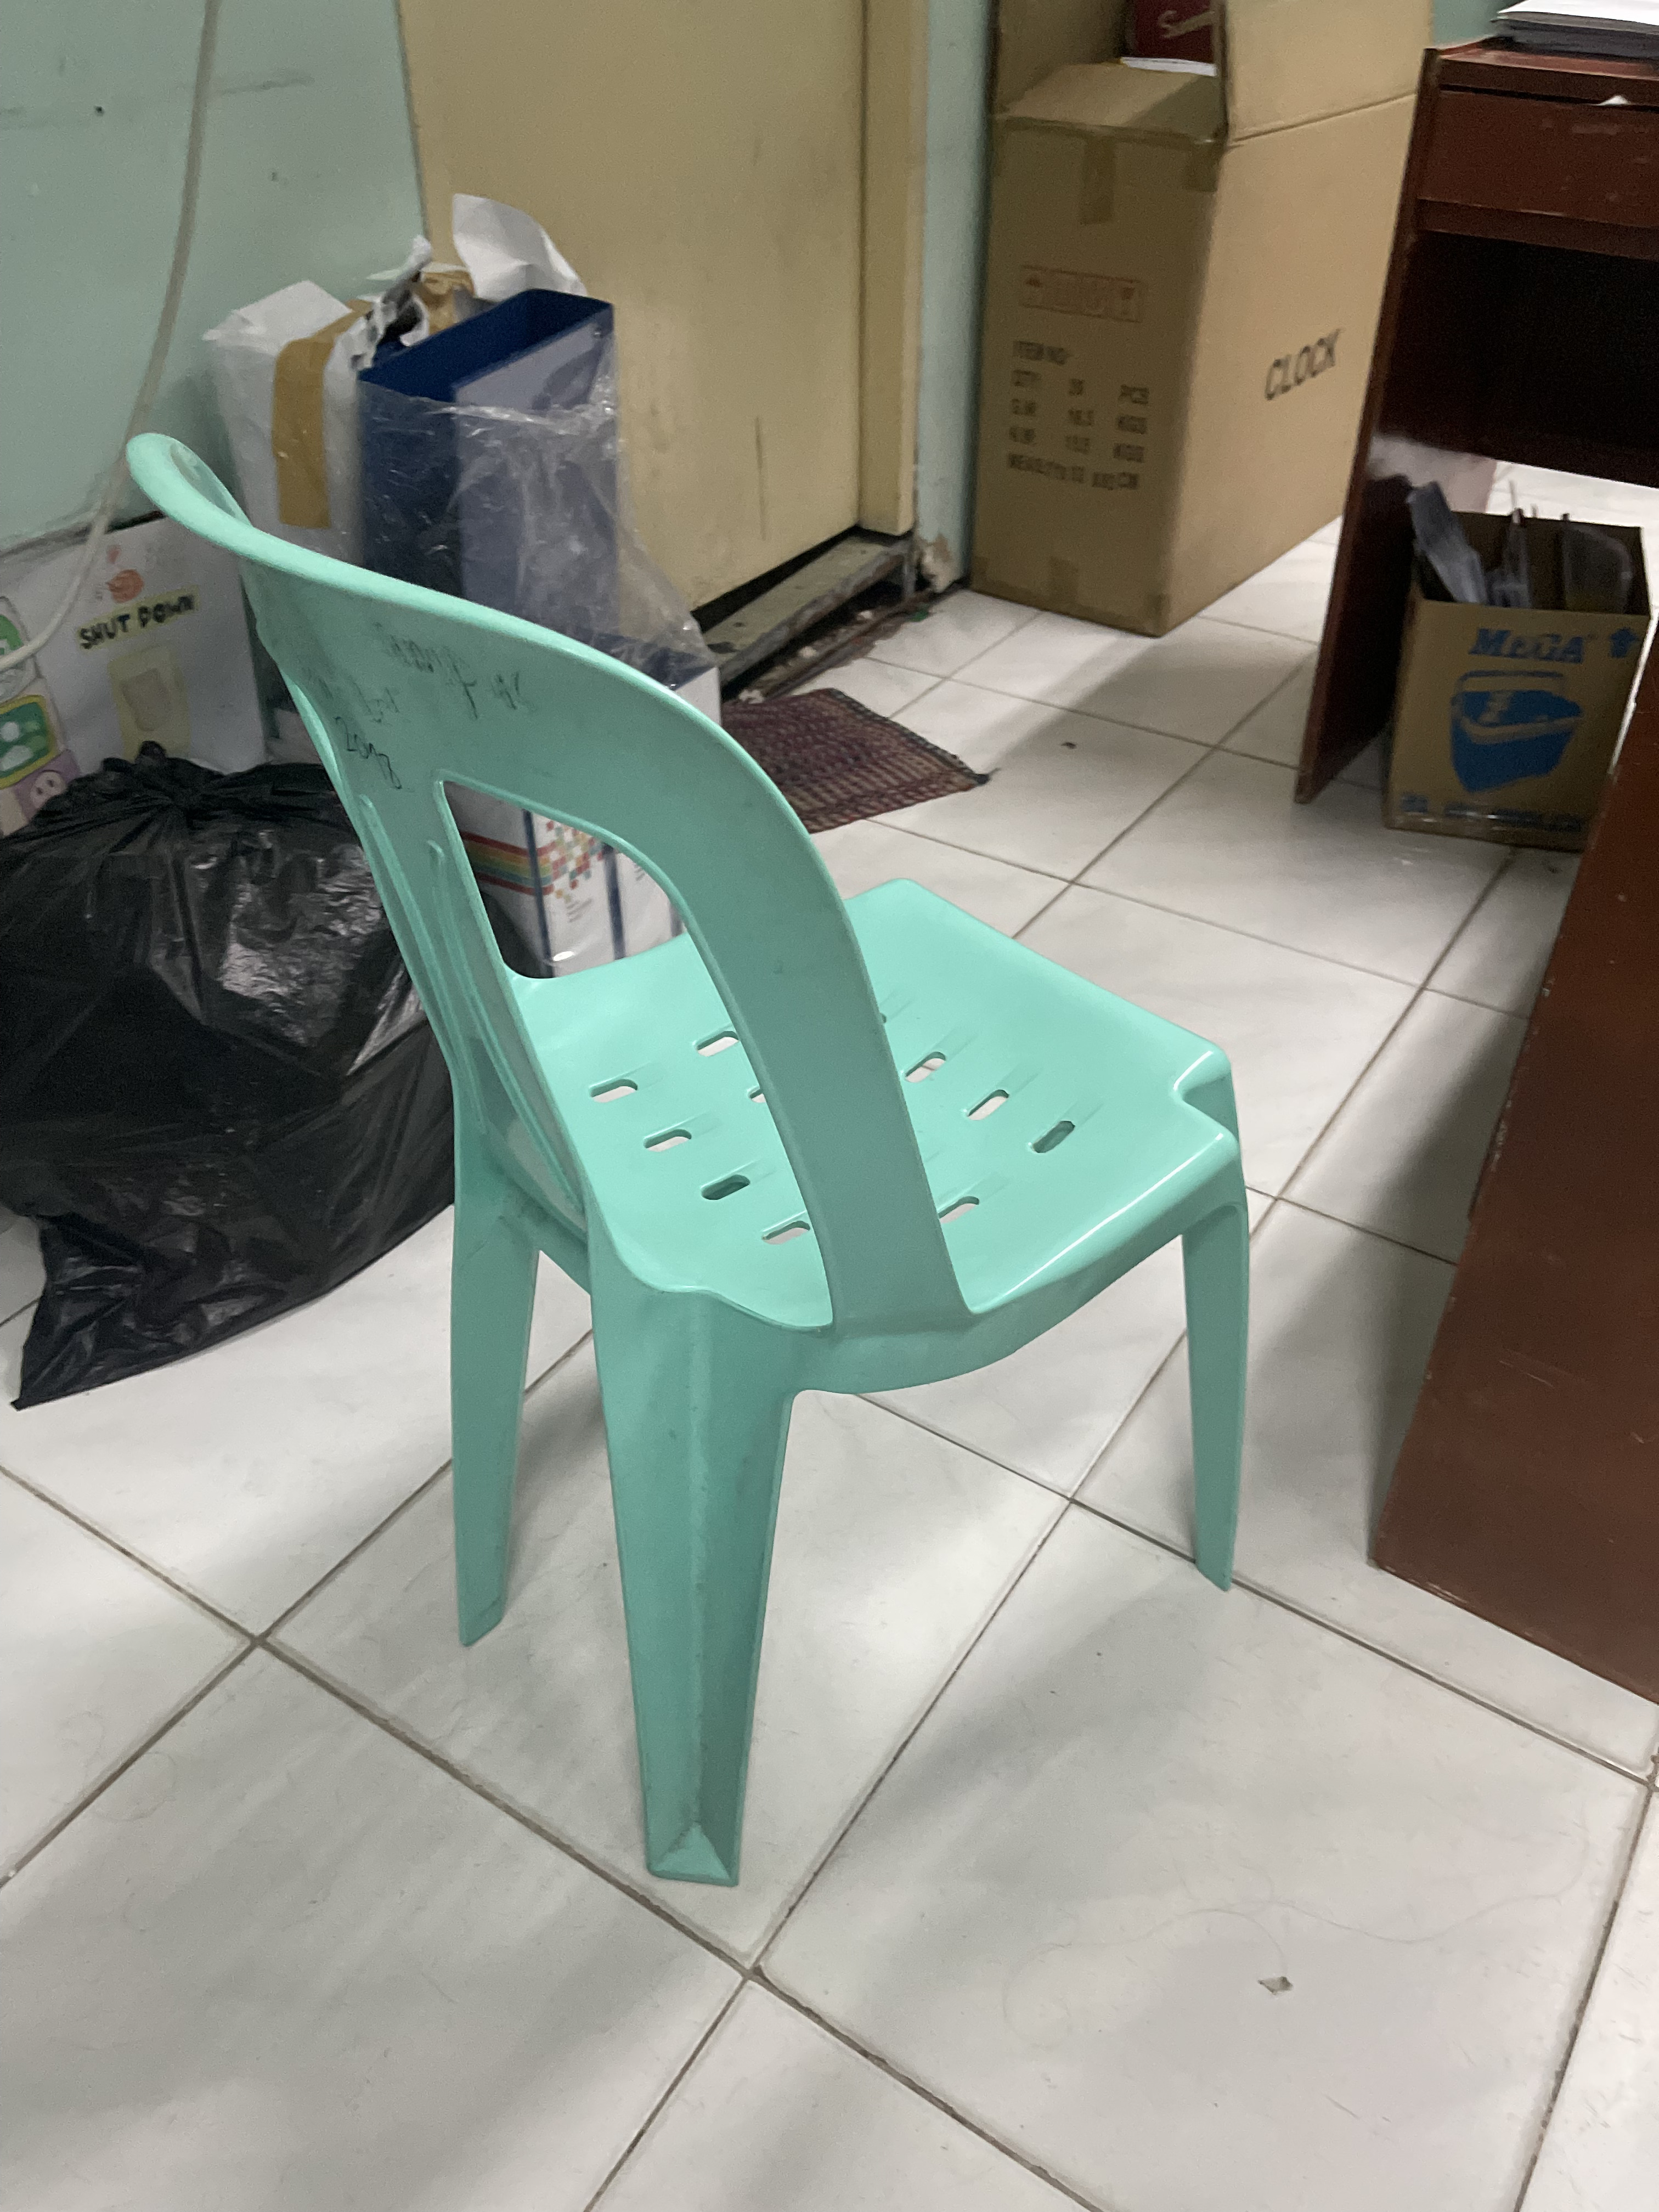chair2: (115, 421, 1270, 1886)
